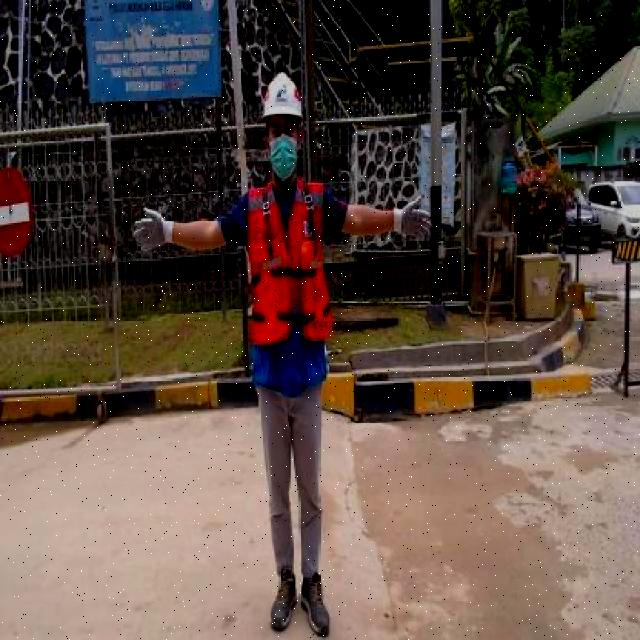Boots: (298, 570, 332, 638), (268, 564, 298, 632)
Gloves: (132, 204, 176, 258), (392, 192, 434, 246)
Helmet: (262, 70, 304, 121)
Mask: (248, 236, 336, 350)
